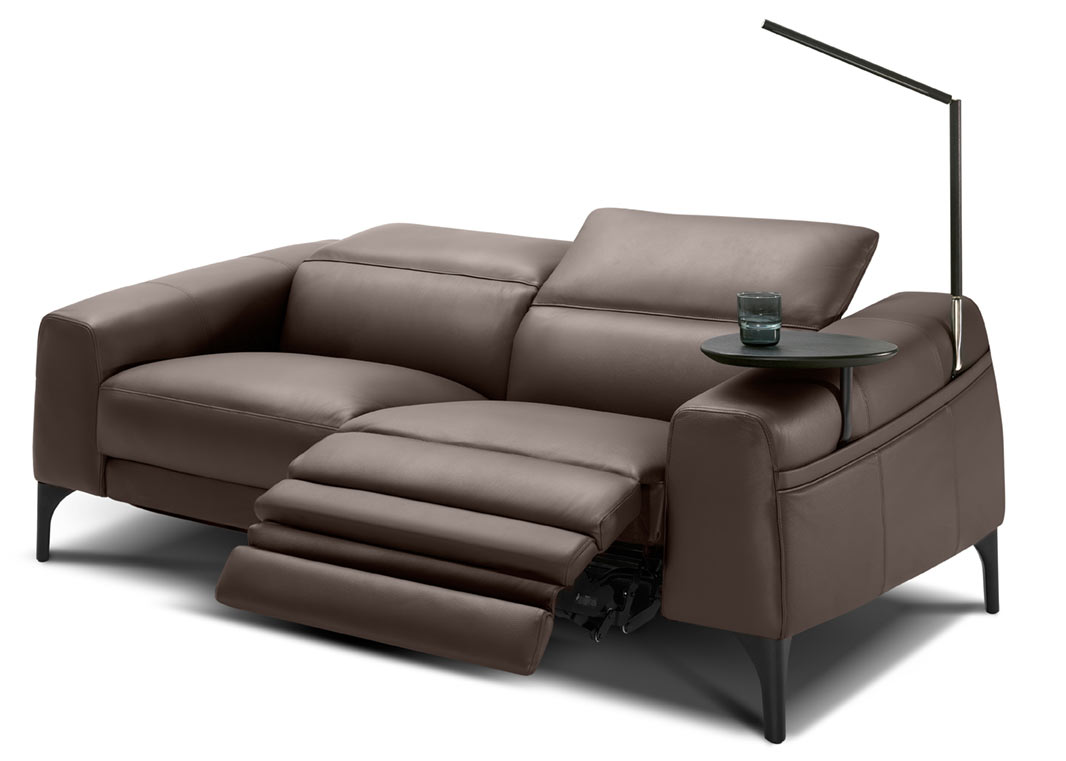chairs: (33, 181, 1018, 747)
